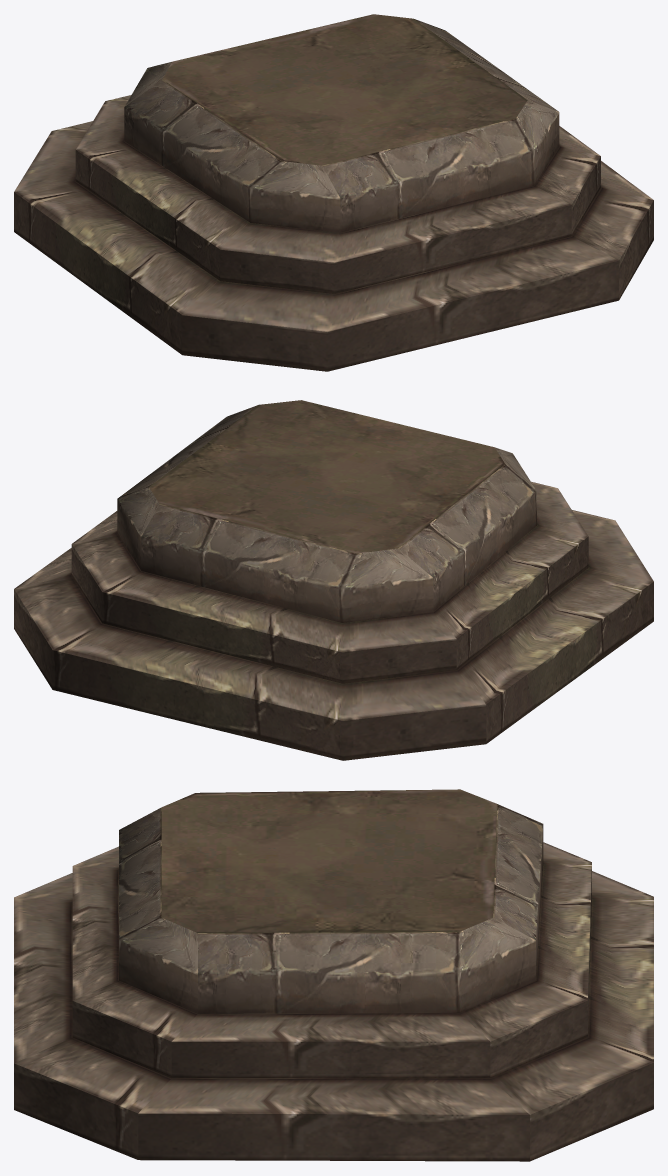
Rendered from pillar_un.FBX.
3 renders of one model, top to bottom at view 1: azimuth 30°, elevation 25°; view 2: azimuth 150°, elevation 25°; view 3: azimuth 270°, elevation 25°, orthographic. The views are drawn at different scales.
Parts seen in each view (by area): view 1: pillar_un; view 2: pillar_un; view 3: pillar_un.
Boxes of the visible parts, bbox=[...] form: pillar_un: bbox=[14, 14, 653, 371]; pillar_un: bbox=[14, 400, 653, 760]; pillar_un: bbox=[14, 789, 653, 1161].
Bounding box in the file's own units: 2.56 × 0.7524 × 2.57.
